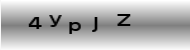4: (28, 15, 44, 30)
J: (90, 15, 100, 33)
Z: (114, 12, 132, 27)
p: (66, 22, 82, 35)
y: (47, 13, 62, 28)
